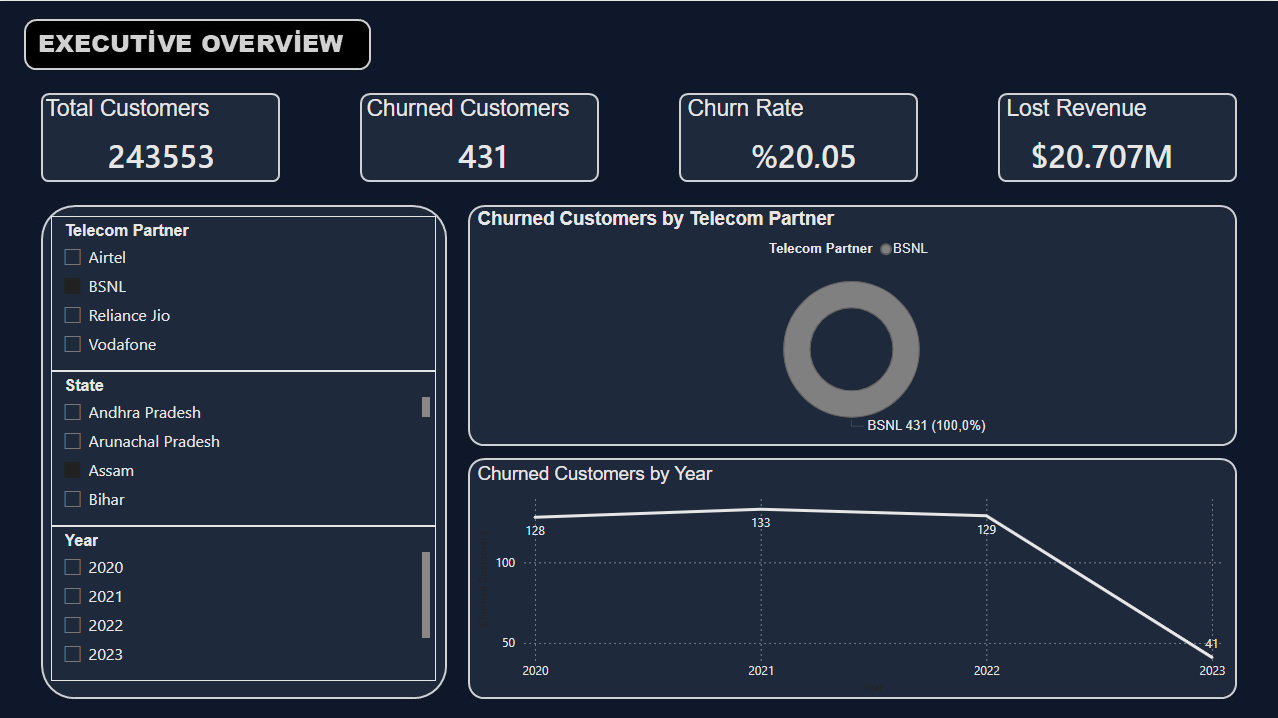

The page's visual inventory and layout, read from the dashboard file:
{"tool":"powerbi","page":{"name":"Executive Overview","canvas":[1280,720],"ordinal":0},"visuals":[{"type":"cardVisual","title":"Total Customers","fields":{"Data":["CountNonNull(dim_customer.CustomerID)"]},"box":[41.8,94.3,242.2,89.5],"z":0},{"type":"slicer","fields":{"Values":["dim_partner.TelecomPartner"]},"box":[52.1,214.5,385.1,154.9],"z":0,"group":"g1"},{"type":"cardVisual","title":"Churned Customers","fields":{"Data":["Measure.Churned Customers"]},"box":[362.8,94.3,242.2,89.5],"z":1000},{"type":"slicer","fields":{"Values":["dim_location.State"]},"box":[52.1,369.4,385.1,154.9],"z":1000,"group":"g1"},{"type":"cardVisual","title":"Churn Rate","fields":{"Data":["Measure.Churn Rate"]},"box":[684.4,94,242.1,89.9],"z":2000},{"type":"slicer","fields":{"Values":["dim_date.Year"]},"box":[52.1,524.4,385.1,154.9],"z":2000,"group":"g1"},{"type":"cardVisual","title":"Lost Revenue","fields":{"Data":["Measure.Lost Revenue"]},"box":[1003.2,94,236,89.9],"z":3000},{"type":"group","id":"g1","title":"Group 1","box":[52.1,214.5,385.1,464.8],"z":4000},{"type":"donutChart","title":"Churned Customers by Telecom Partner","fields":{"Category":["dim_partner.TelecomPartner"],"Y":["Measure.Churned Customers"]},"box":[474,207.4,757,232.9],"z":5000},{"type":"lineChart","fields":{"Y":["Measure.Churned Customers"],"Category":["dim_date.Year"]},"box":[474,461.7,757,235],"z":6000}]}

Visuals, with their boxes in screenshot pixels (x1, y1, x2, y2), scaled from the page's 1280x720 canvas onto the 1278x718 screenshot:
"Total Customers" cardVisual: bbox(42, 94, 284, 183)
slicer - dim_partner.TelecomPartner: bbox(52, 214, 437, 368)
"Churned Customers" cardVisual: bbox(362, 94, 604, 183)
slicer - dim_location.State: bbox(52, 368, 437, 523)
"Churn Rate" cardVisual: bbox(683, 94, 925, 183)
slicer - dim_date.Year: bbox(52, 523, 437, 677)
"Lost Revenue" cardVisual: bbox(1002, 94, 1237, 183)
"Group 1" group: bbox(52, 214, 437, 677)
"Churned Customers by Telecom Partner" donutChart: bbox(473, 207, 1229, 439)
lineChart - Measure.Churned Customers x dim_date.Year: bbox(473, 460, 1229, 695)
